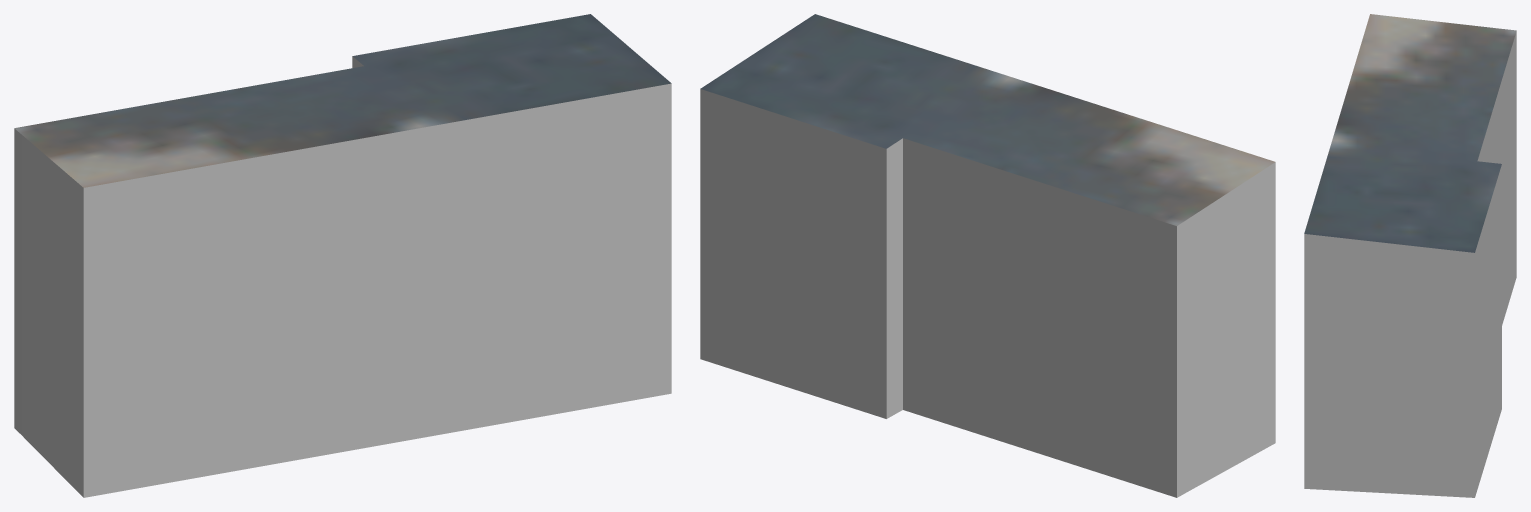
The model's file is DEBW_0010007Tx5e.gltf.
3 views of the same model, side by side, from view 1: azimuth 30°, elevation 25°; view 2: azimuth 150°, elevation 25°; view 3: azimuth 270°, elevation 25° (orthographic). The views are drawn at different scales.
Parts seen in each view (by area): view 1: Z_UP; view 2: Z_UP; view 3: Z_UP.
Part boxes in pixels (x1,y1,x2,y2): Z_UP: (14, 14, 671, 497); Z_UP: (700, 14, 1275, 497); Z_UP: (1304, 14, 1516, 497).
Size of the model in its own units: 11.01 by 5.72 by 4.32.
2 materials, 1 textured.
